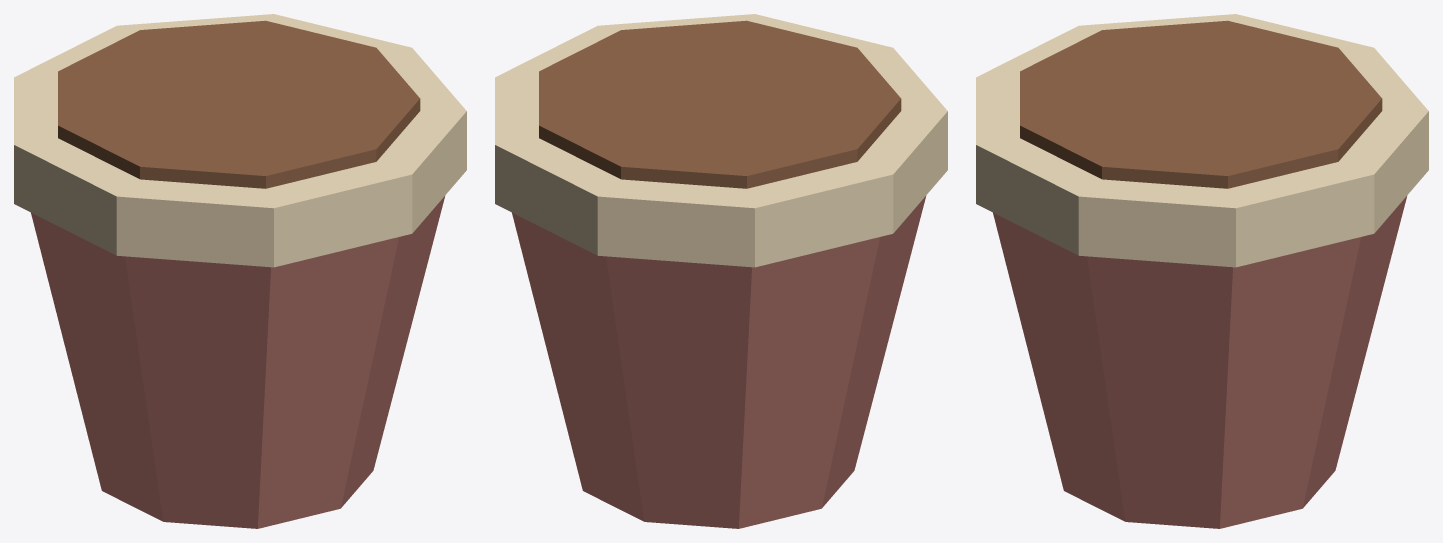
File: SM_CH_Paper_Pot.fbx
The picture shows the model from 3 angles, left to right: view 1: azimuth 30°, elevation 25°; view 2: azimuth 150°, elevation 25°; view 3: azimuth 270°, elevation 25°; orthographic projection.
Visible parts, largest first — view 1: SM_CH_Paper_Pot; view 2: SM_CH_Paper_Pot; view 3: SM_CH_Paper_Pot.
Part boxes in pixels (box(x1,y1,x2,y2)): SM_CH_Paper_Pot: box(14, 14, 466, 528); SM_CH_Paper_Pot: box(495, 14, 947, 528); SM_CH_Paper_Pot: box(976, 14, 1428, 528).
Size of the model in its own units: 4924 by 4849 by 4400.
